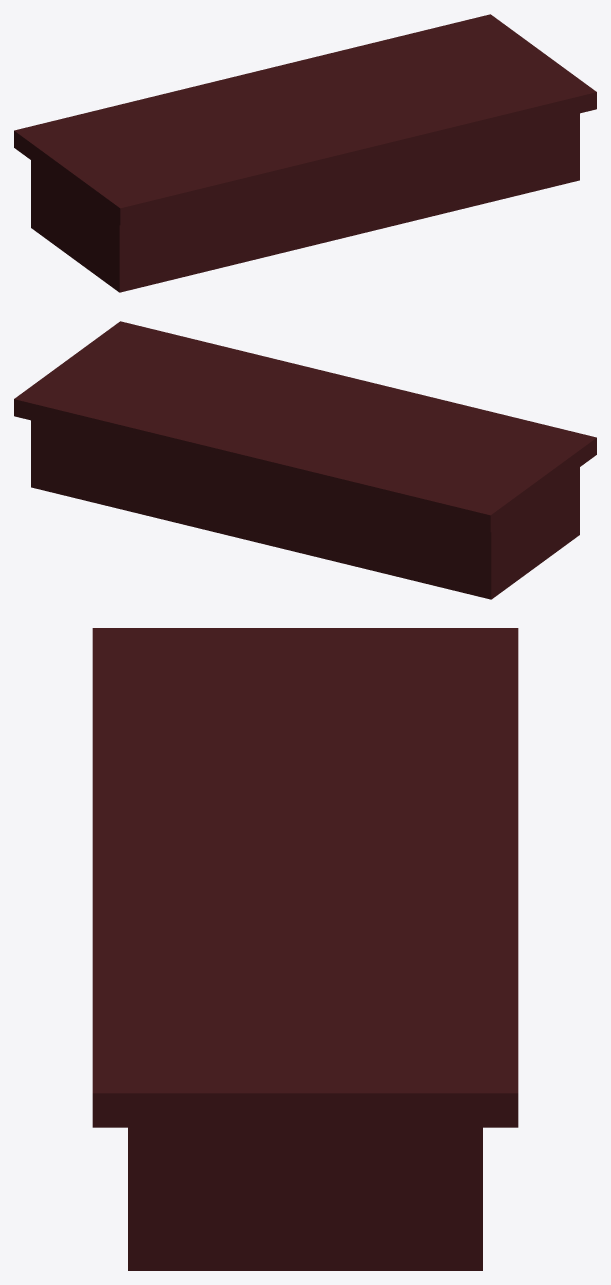
File: escenario.fbx
3 views of the same model, one above another, from view 1: azimuth 30°, elevation 25°; view 2: azimuth 150°, elevation 25°; view 3: azimuth 270°, elevation 25° (orthographic). The views are drawn at different scales.
Visible parts, largest first — view 1: Cube.003, Cube.002; view 2: Cube.003, Cube.002; view 3: Cube.003, Cube.002.
Part boxes in pixels (x1,y1,x2,y2): Cube.003: (14,14,596,225); Cube.002: (31,113,579,292); Cube.003: (14,321,596,532); Cube.002: (31,420,579,599); Cube.003: (92,628,518,1127); Cube.002: (128,1127,482,1270).
Size of the model in its own units: 5949 by 1107 by 2299.
